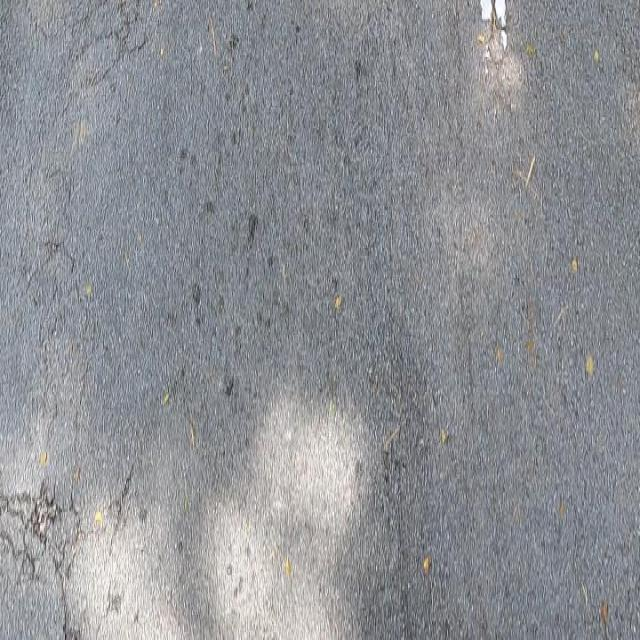cracks: (20, 0, 161, 419), (5, 470, 111, 640)
